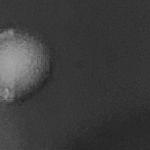colony: (0, 22, 61, 108)
